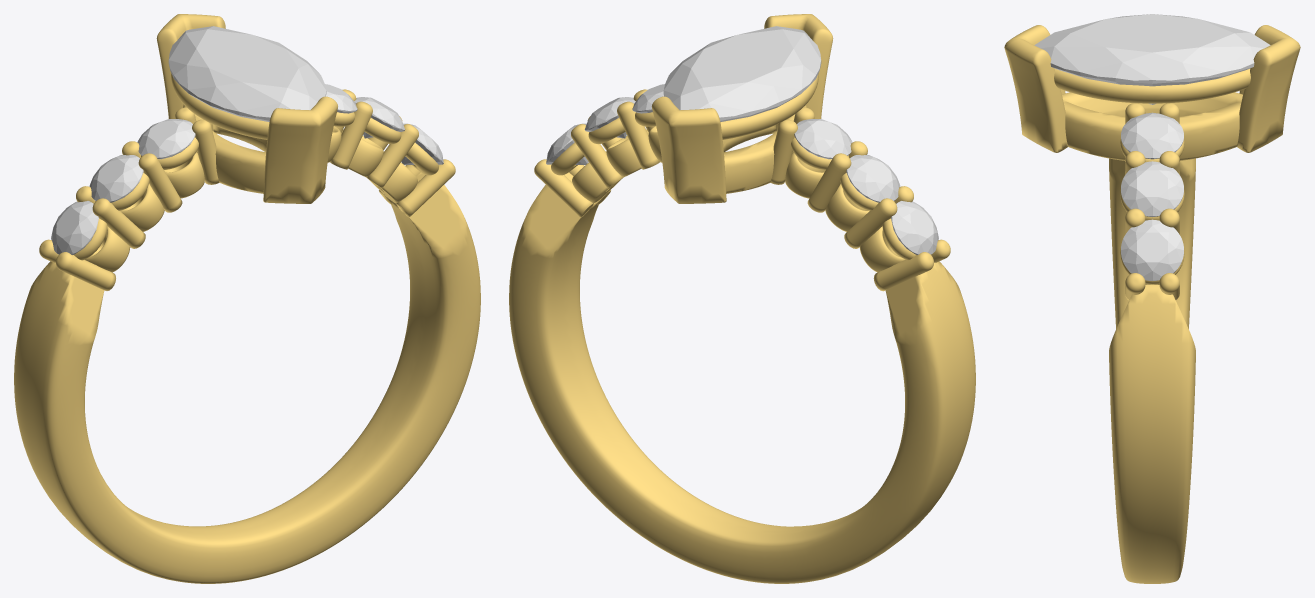
File: diamond-marquise-yellowgold-protectededges2prongs-straighttaperedband-7stone.glb
3 renders of one model, left to right at view 1: azimuth 30°, elevation 25°; view 2: azimuth 150°, elevation 25°; view 3: azimuth 270°, elevation 25°, orthographic. The views are drawn at different scales.
Parts seen in each view (by area): view 1: metal, stone, side, side.003, side.004, side.006; view 2: metal, stone, side, side.003, side.004, side.006; view 3: metal, stone, side.005, side.006, side.007.
Boxes of the visible parts, x1,y1,x2,y2 form: metal: (14,14,480,583); stone: (168,26,326,121); side: (51,201,98,254); side.003: (89,155,143,202); side.004: (137,119,195,159); side.006: (354,97,405,138); metal: (509,14,975,583); stone: (663,26,821,121); side: (891,201,938,254); side.003: (846,155,900,202); side.004: (794,119,852,159); side.006: (584,97,635,138); metal: (1004,25,1300,583); stone: (1034,14,1270,104); side.005: (1121,219,1183,280); side.006: (1121,161,1183,216); side.007: (1121,112,1183,159).
Size of the model in its own units: 20.51 by 22.93 by 11.69.
